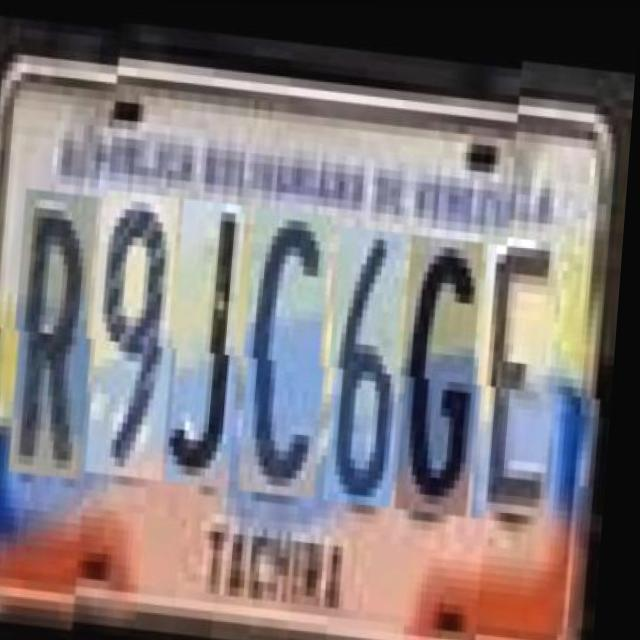6: (331, 218, 417, 497)
9: (92, 187, 187, 476)
c: (245, 201, 341, 490)
e: (480, 231, 570, 511)
g: (403, 225, 493, 504)
j: (173, 194, 255, 482)
r: (17, 179, 107, 468)
